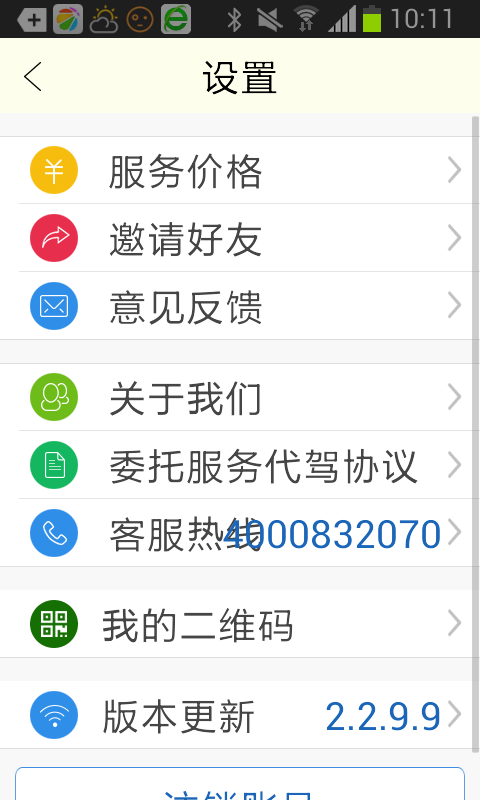textview: (2, 358, 480, 570), (4, 137, 474, 345)
